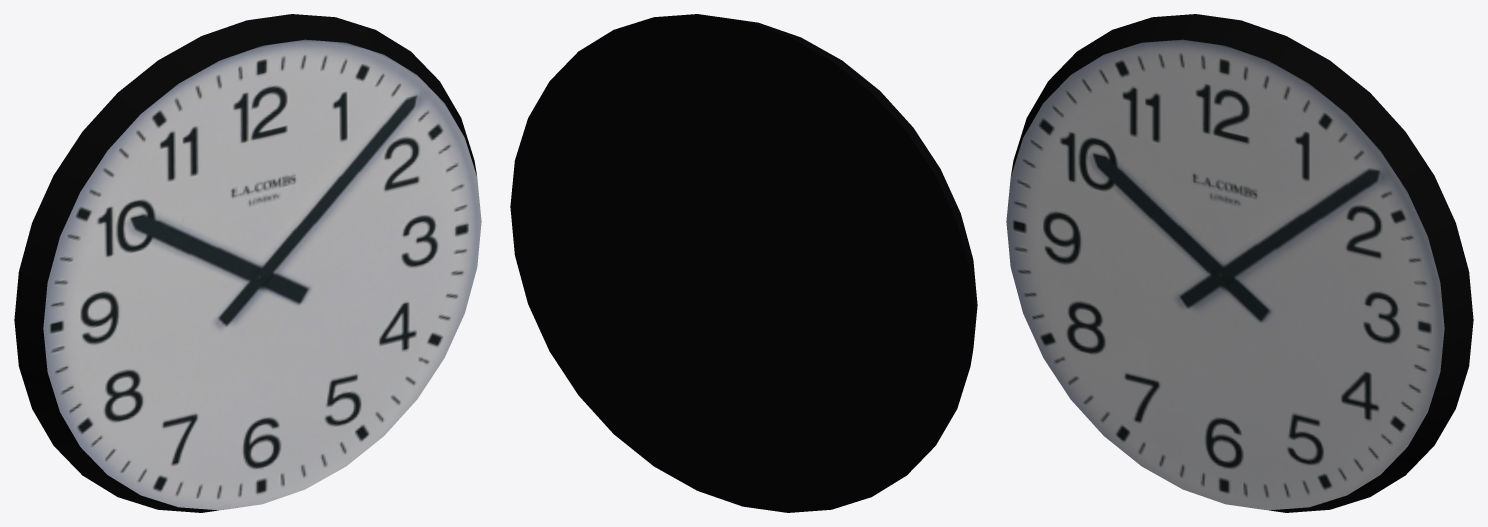
Rendered from clock.glb.
3 views of the same model, side by side, from view 1: azimuth 30°, elevation 25°; view 2: azimuth 150°, elevation 25°; view 3: azimuth 330°, elevation 25° (orthographic).
Parts seen in each view (by area): view 1: Clock; view 2: Clock; view 3: Clock.
Boxes of the visible parts, x1,y1,x2,y2 form: Clock: (14, 14, 481, 512); Clock: (510, 14, 977, 512); Clock: (1006, 14, 1473, 512).
Bounding box in the file's own units: 0.5134 × 0.5134 × 0.032.
Materials: 1 (1 with a texture image).
